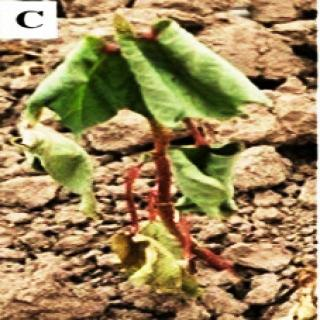wilt: (113, 219, 199, 295)
